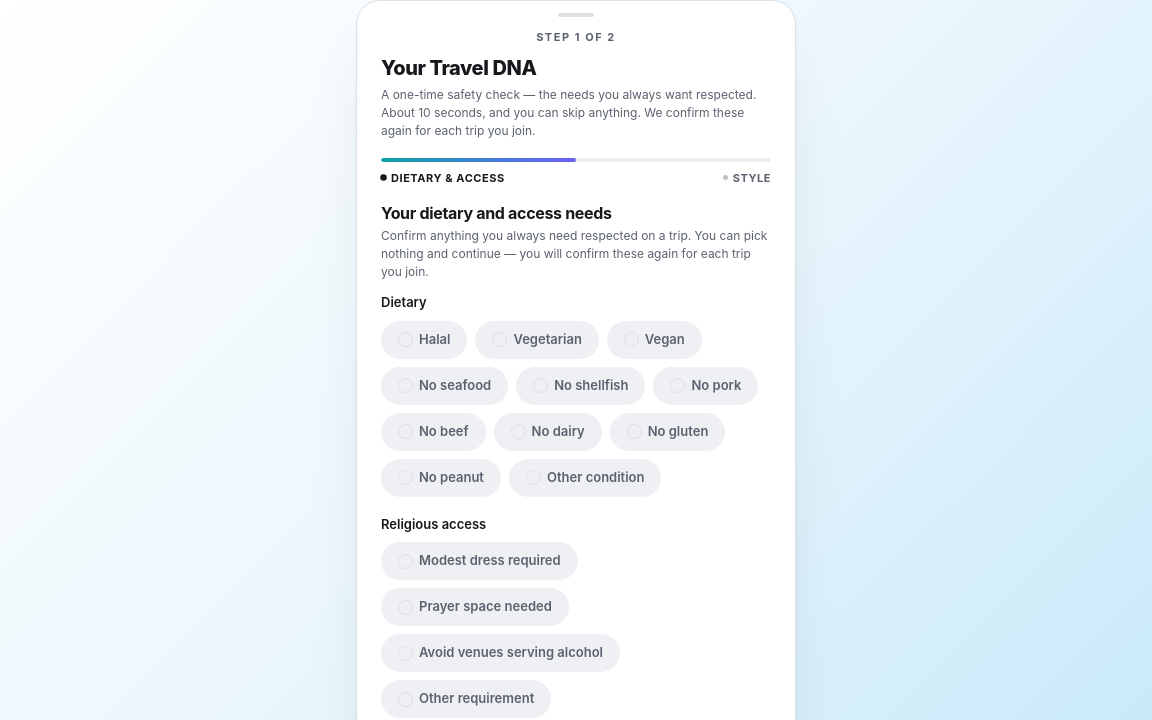
it: UserOnboardingWizard › shows a completion summary of the picked answers before redirecting
Click the button "Halal". click: x=424, y=340
box: [381,321,467,359]
(page scrolled)
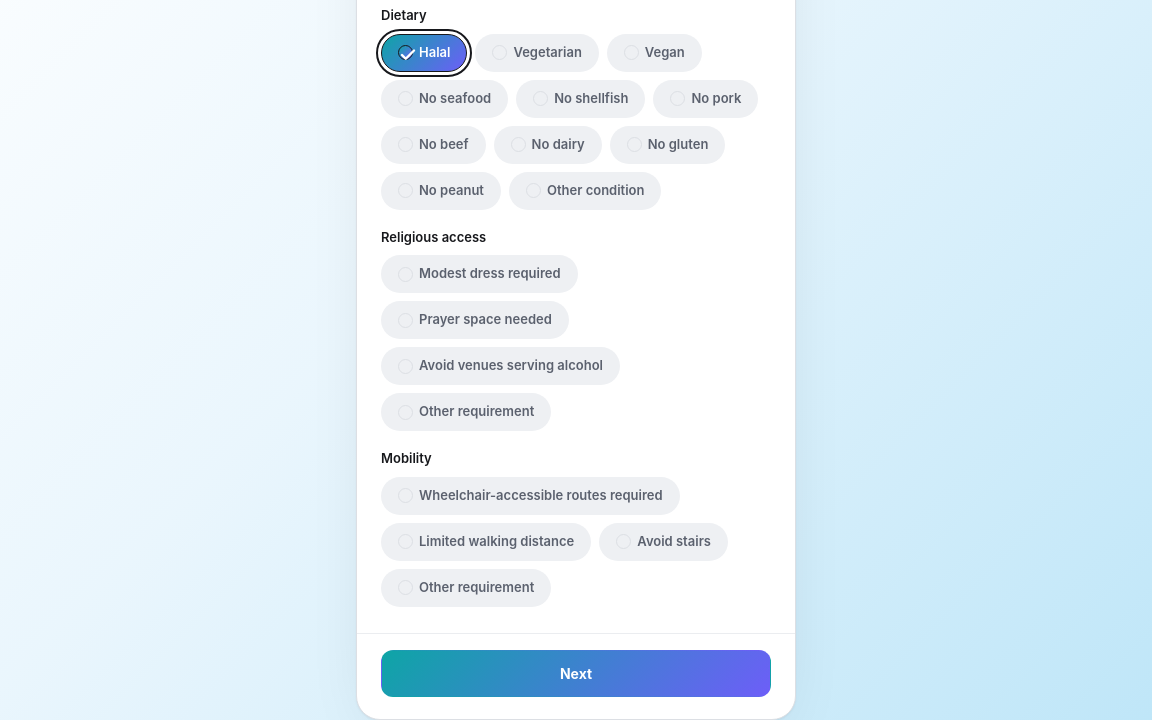
Click the button "Next". click: x=576, y=673
box: [381,650,771,697]
(page scrolled)
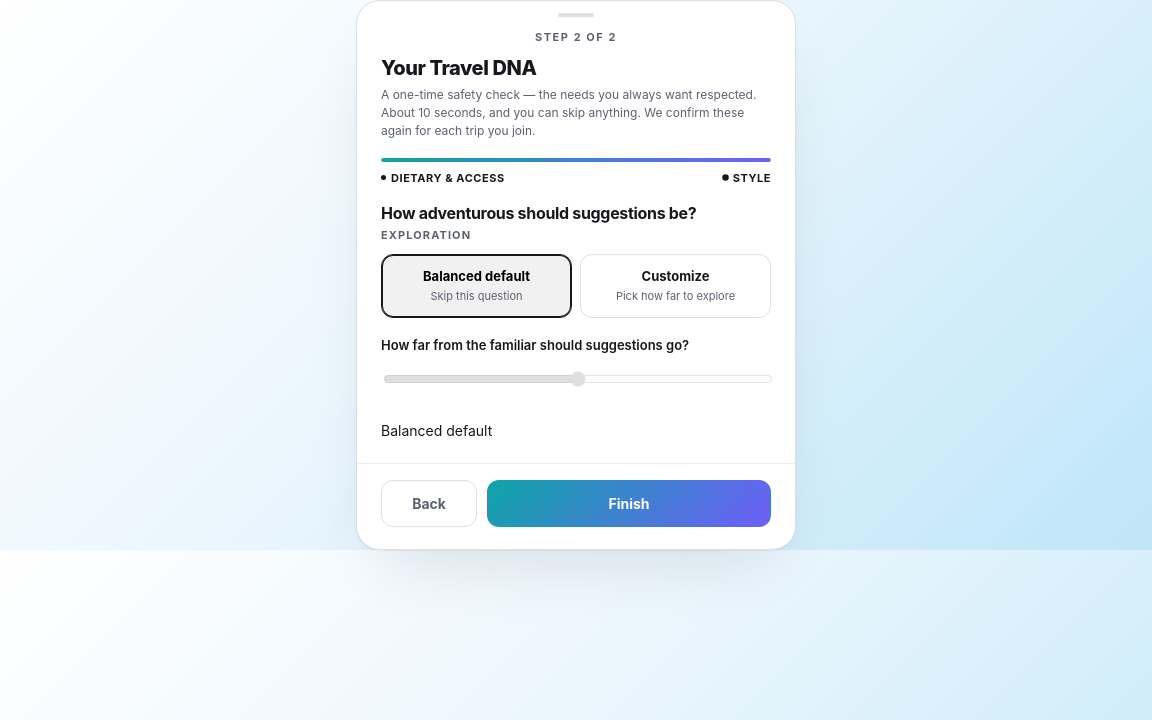
Click the button "Finish". click: x=629, y=504
box: [487,480,771,527]
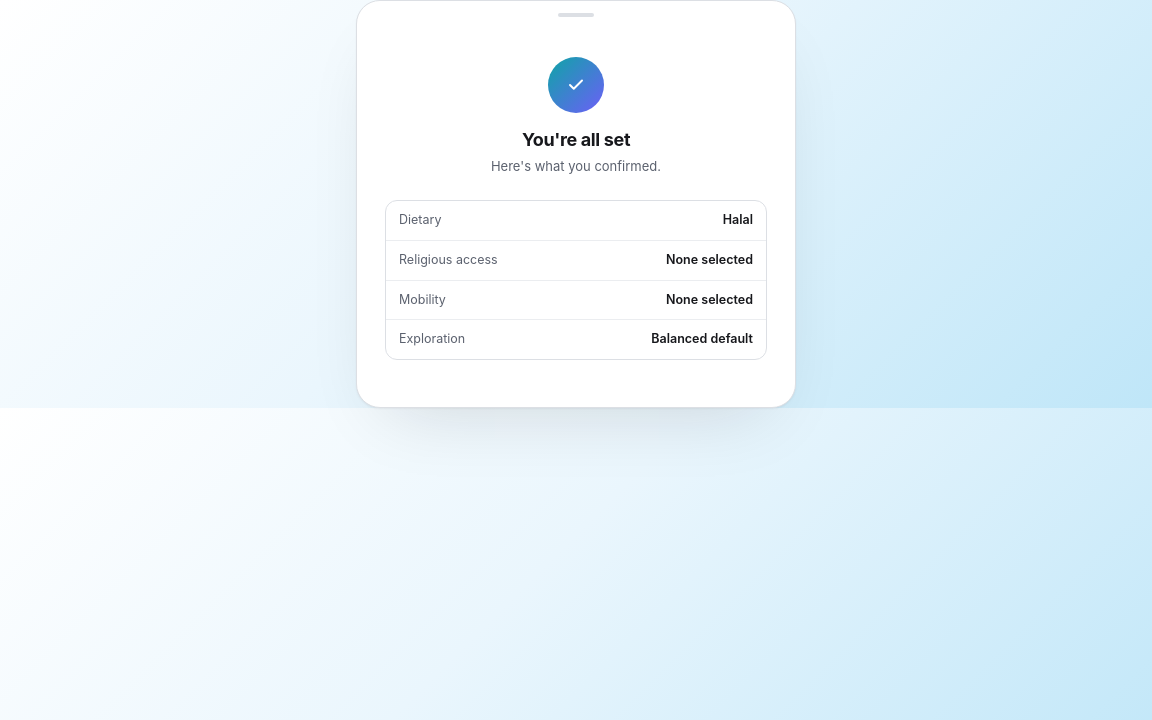
Expected: the text "Balanced default" is shown, [651,330,753,349]
Expected: the heading "You're all set" is shown, [522,129,630,151]
Expected: the text "Halal" is shown, [723,211,753,230]
